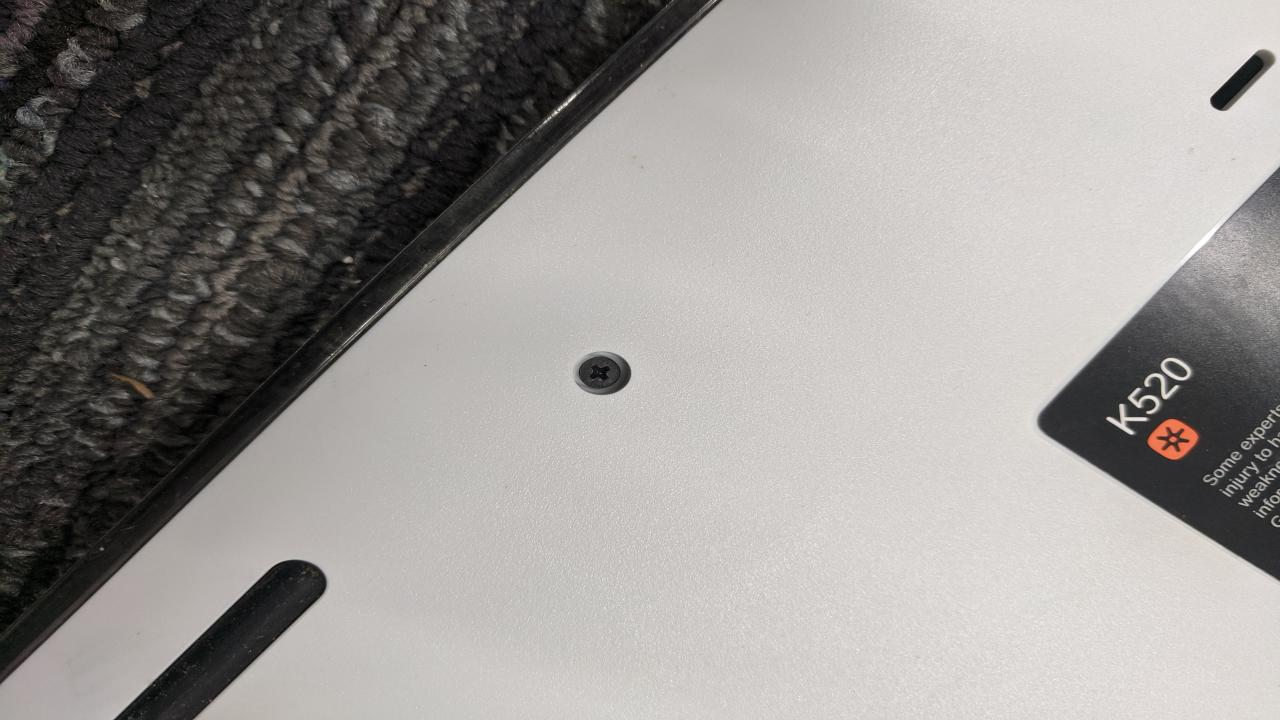CRS: (576, 352, 626, 394)
